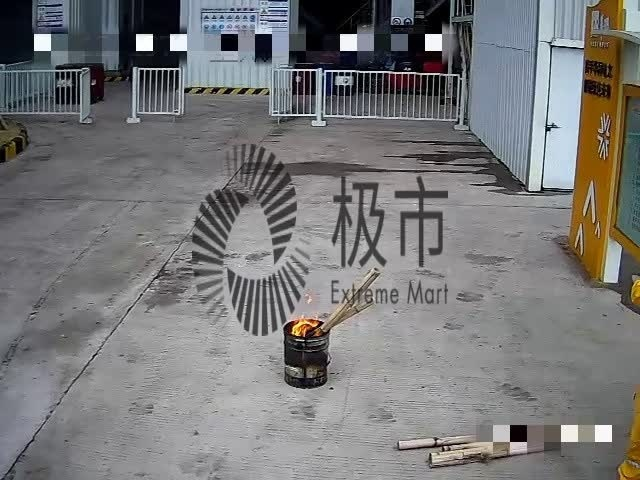fire: (286, 310, 322, 339)
